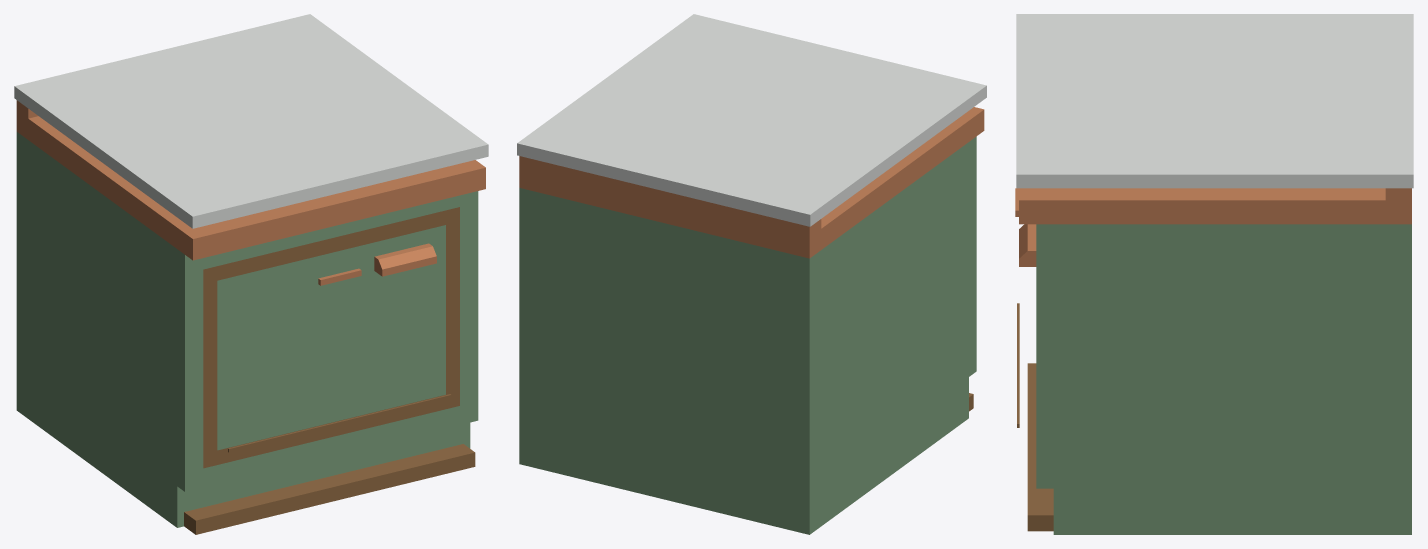
Rendered from kitchenCabinet.glb.
3 renders of one model, left to right at view 1: azimuth 30°, elevation 25°; view 2: azimuth 150°, elevation 25°; view 3: azimuth 270°, elevation 25°, orthographic. The views are drawn at different scales.
Parts seen in each view (by area): view 1: kitchenCabinet(Clone), door; view 2: kitchenCabinet(Clone); view 3: kitchenCabinet(Clone), door.
Part boxes in pixels (x1,y1,x2,y2): kitchenCabinet(Clone): (14, 14, 488, 534); door: (203, 207, 459, 468); kitchenCabinet(Clone): (517, 14, 986, 534); kitchenCabinet(Clone): (1016, 14, 1413, 534); door: (1015, 188, 1036, 427).
Size of the model in its own units: 0.43 by 0.45 by 0.45.
